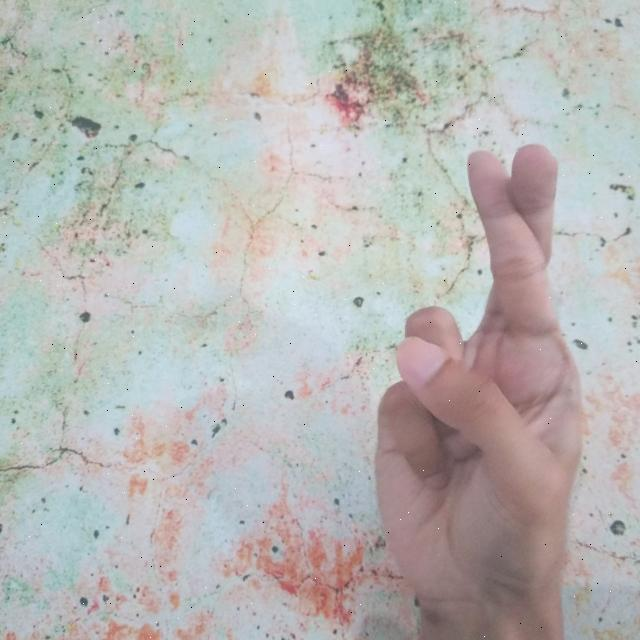R: (367, 141, 597, 640)
